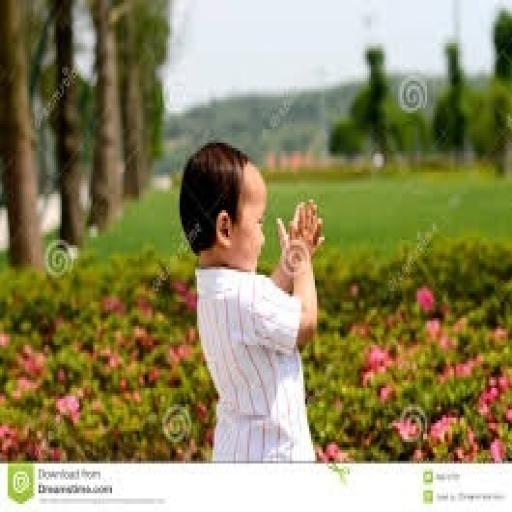clapping: (176, 138, 326, 464)
